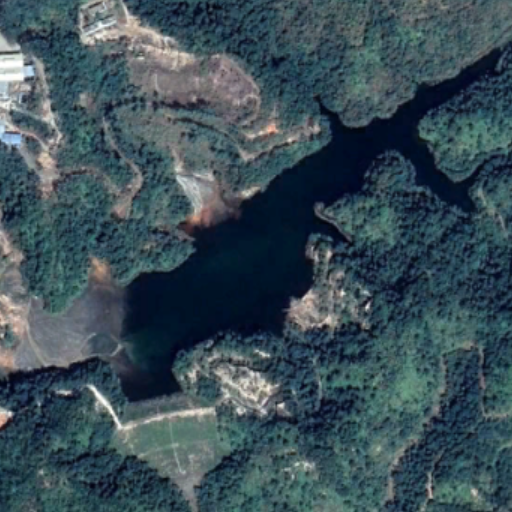tp: (17, 37, 508, 409)
